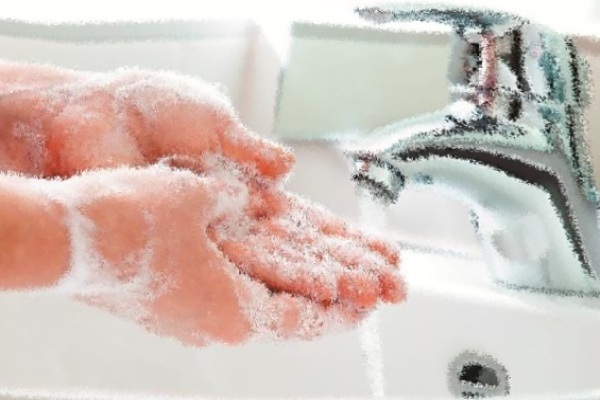washing hand: (33, 0, 599, 399)
